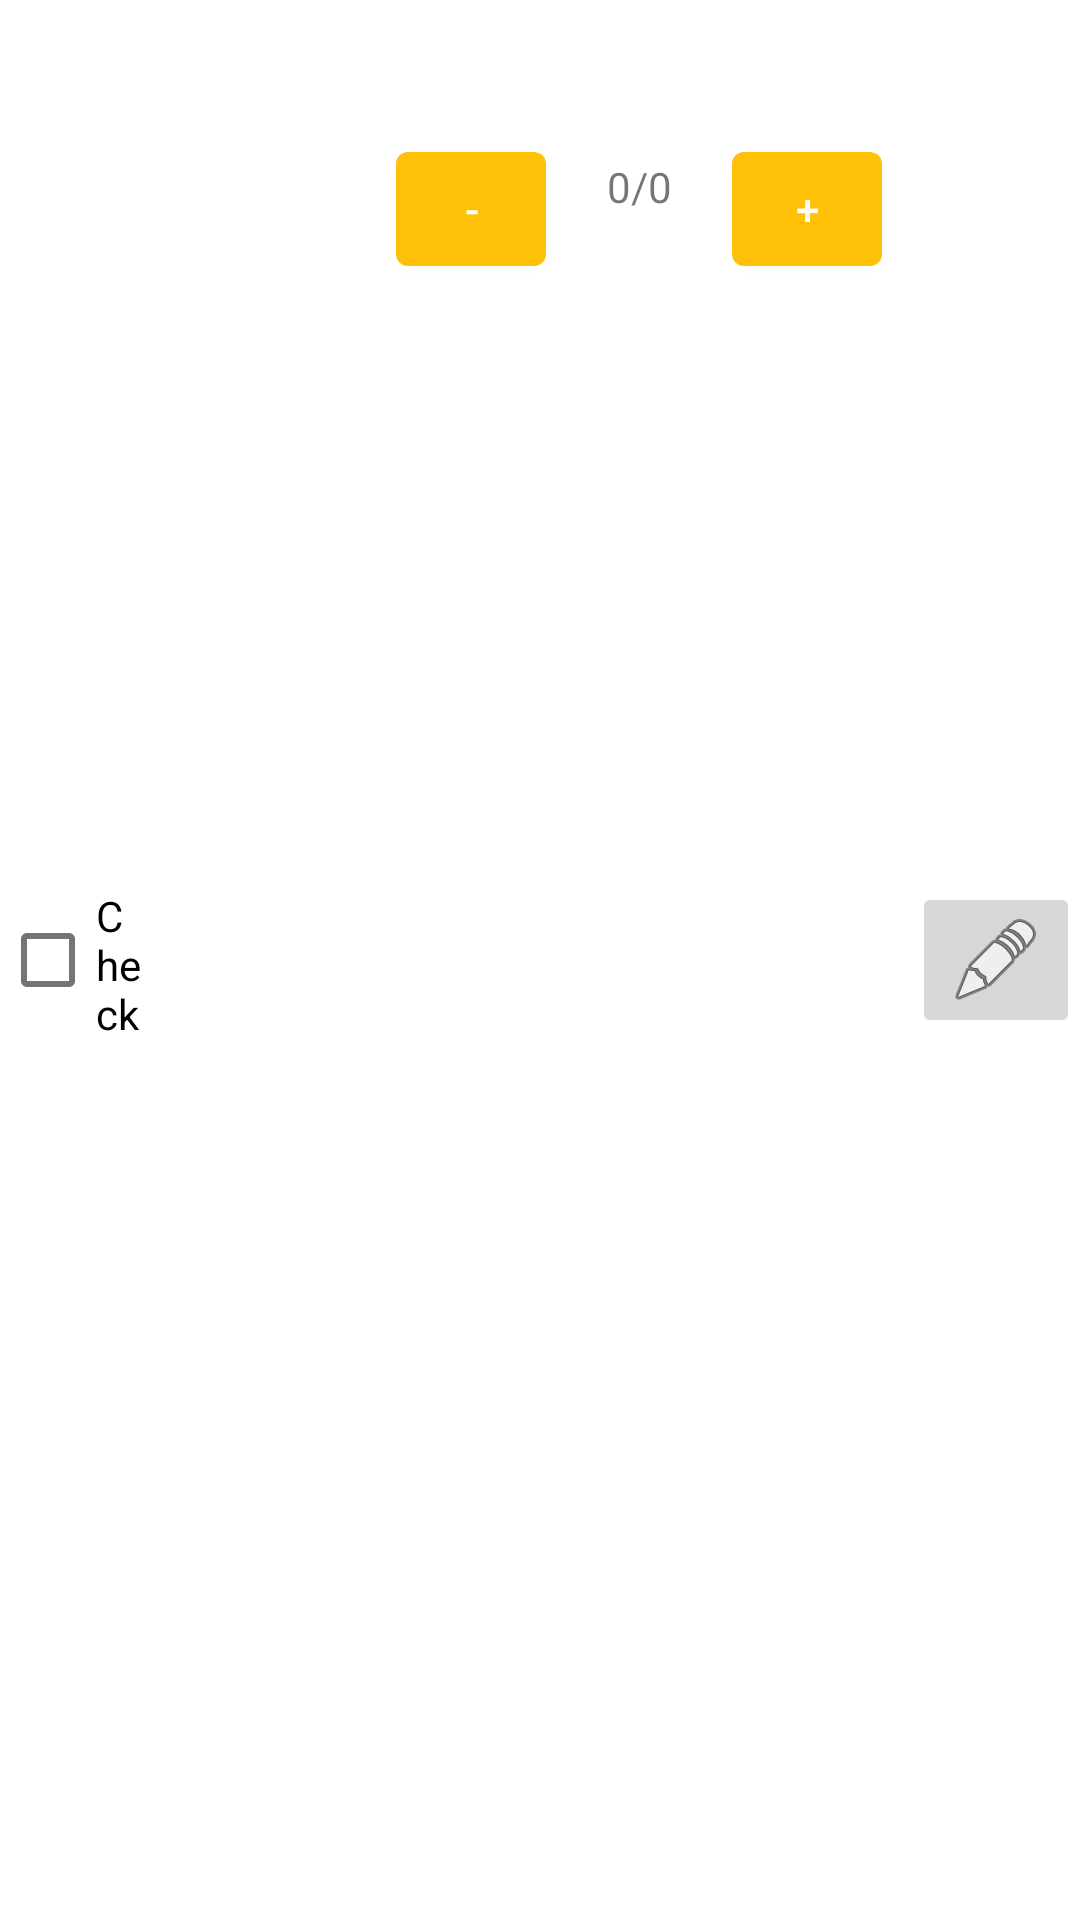

Icons on this 1080x1920 Android screen, each with the point to tap as (x=x, y=y):
Edit: (x=996, y=960)
